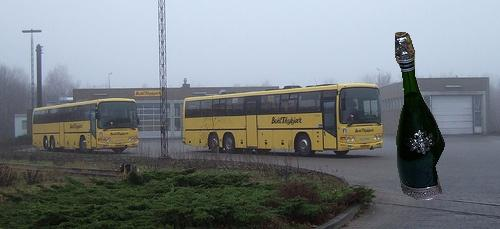tampered: (396, 33, 445, 200)
